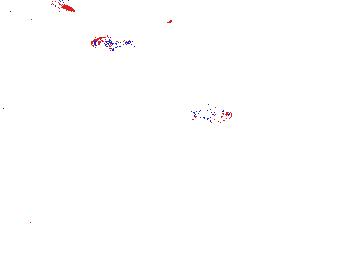red belly glassfish: (188, 105, 234, 125), (88, 34, 133, 51)
redtail glassfish: (1, 1, 75, 14)
